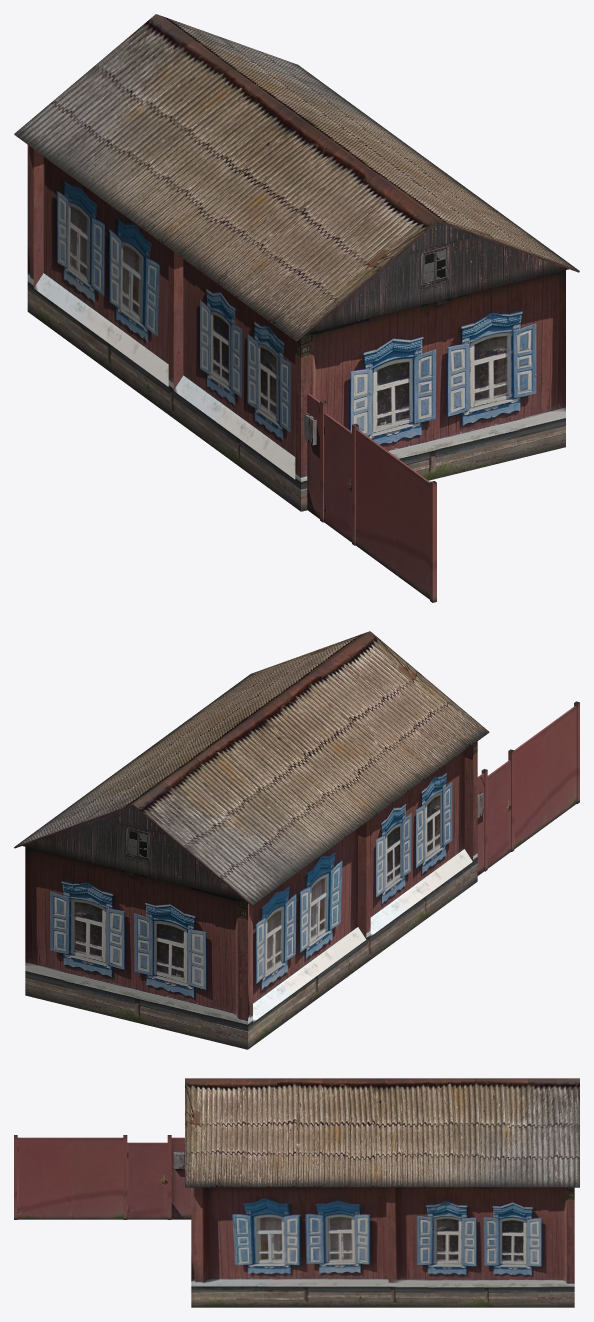
File: r402_ishim_domik12.FBX
The picture shows the model from 3 angles, top to bottom: view 1: azimuth 30°, elevation 25°; view 2: azimuth 150°, elevation 25°; view 3: azimuth 270°, elevation 25°; orthographic projection. The views are drawn at different scales.
Parts seen in each view (by area): view 1: r402_ishim_domik12; view 2: r402_ishim_domik12; view 3: r402_ishim_domik12.
Part boxes in pixels (box(x1,y1,x2,y2)): r402_ishim_domik12: box(14, 14, 579, 602); r402_ishim_domik12: box(14, 631, 579, 1049); r402_ishim_domik12: box(14, 1078, 579, 1307).
Size of the model in its own units: 4.99 by 12.3 by 4.41.
